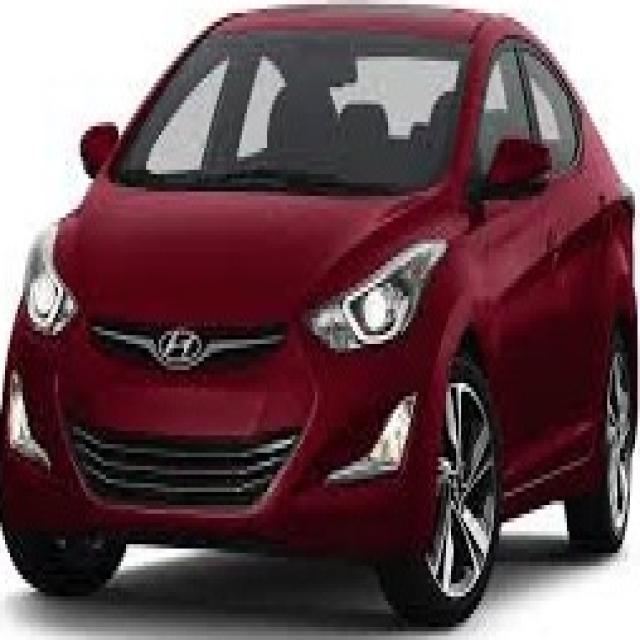maroon: (2, 9, 640, 627)
